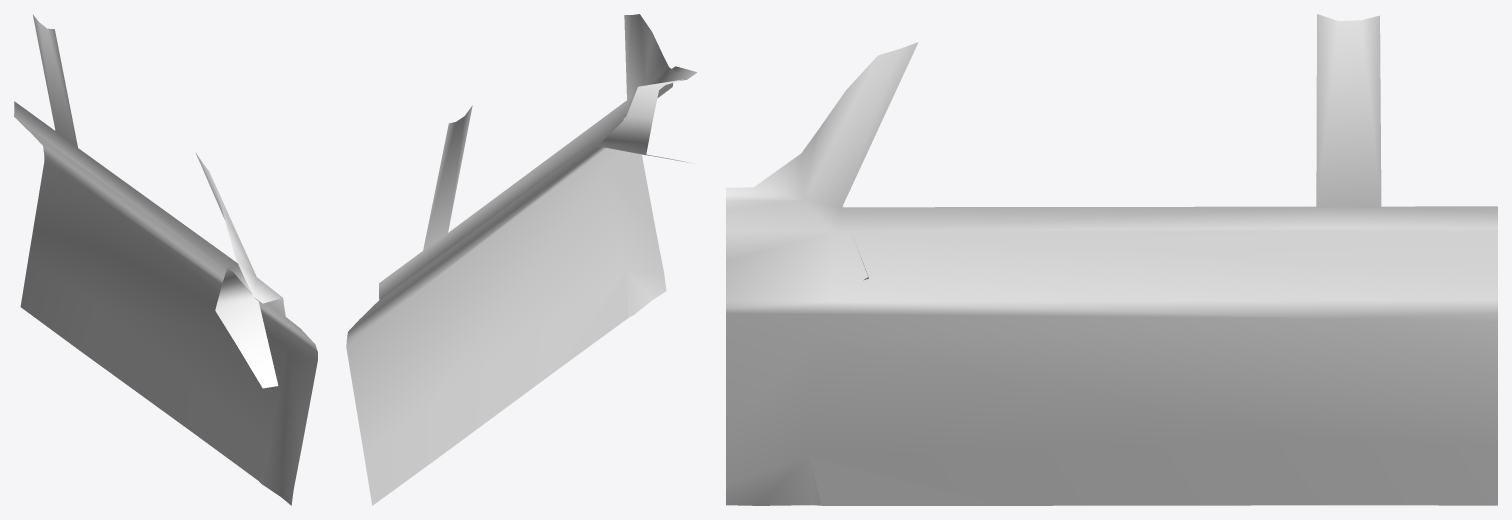
3 views of the same model, side by side, from view 1: azimuth 30°, elevation 25°; view 2: azimuth 150°, elevation 25°; view 3: azimuth 270°, elevation 25° (orthographic). The views are drawn at different scales.
Bounding box in the file's own units: 0.1368 × 0.7866 × 1.17.
1 material, 1 textured.
